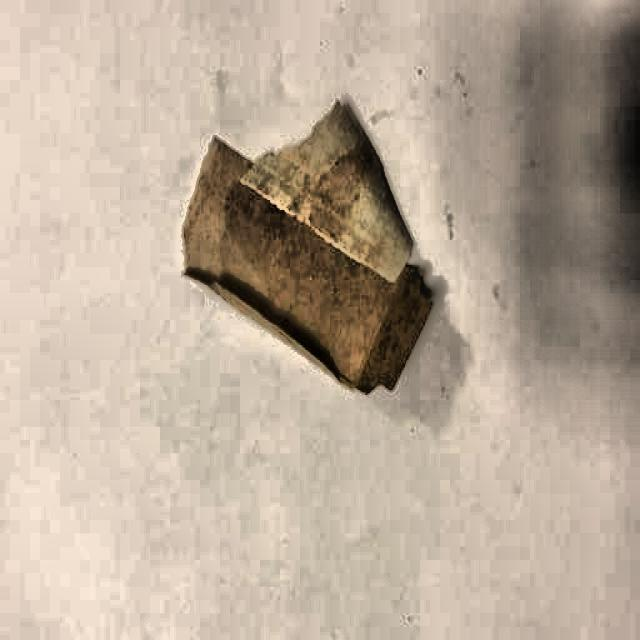paper: (190, 99, 438, 400)
